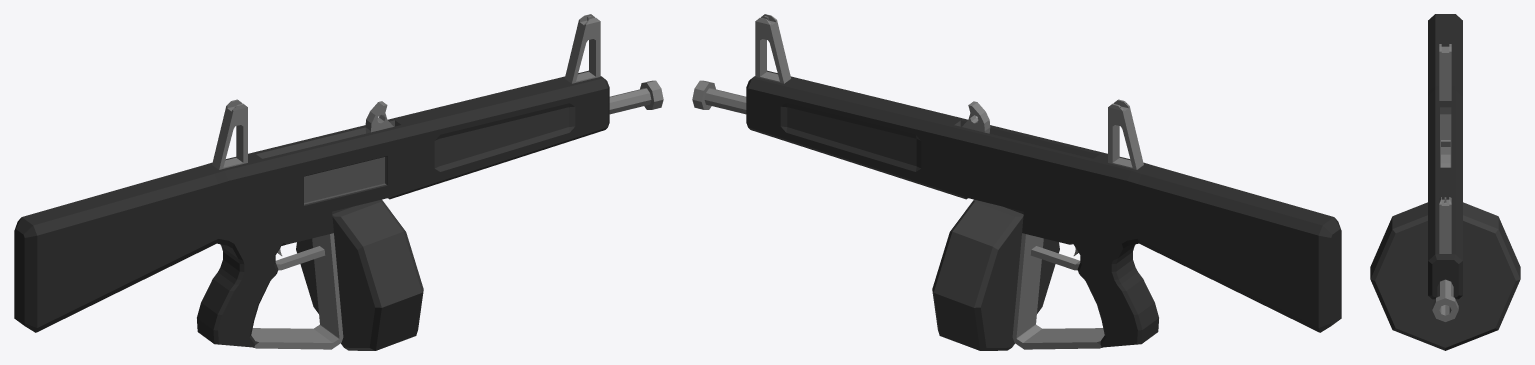
The picture shows the model from 3 angles, left to right: view 1: azimuth 30°, elevation 25°; view 2: azimuth 150°, elevation 25°; view 3: azimuth 270°, elevation 25°; orthographic projection. The views are drawn at different scales.
Parts seen in each view (by area): view 1: aa12; view 2: aa12; view 3: aa12.
Boxes of the visible parts, x1,y1,x2,y2 form: aa12: (14, 14, 663, 350); aa12: (692, 14, 1341, 350); aa12: (1370, 14, 1520, 350).
Size of the model in its own units: 922 by 381 by 212.
Materials: 1 (1 with a texture image).
